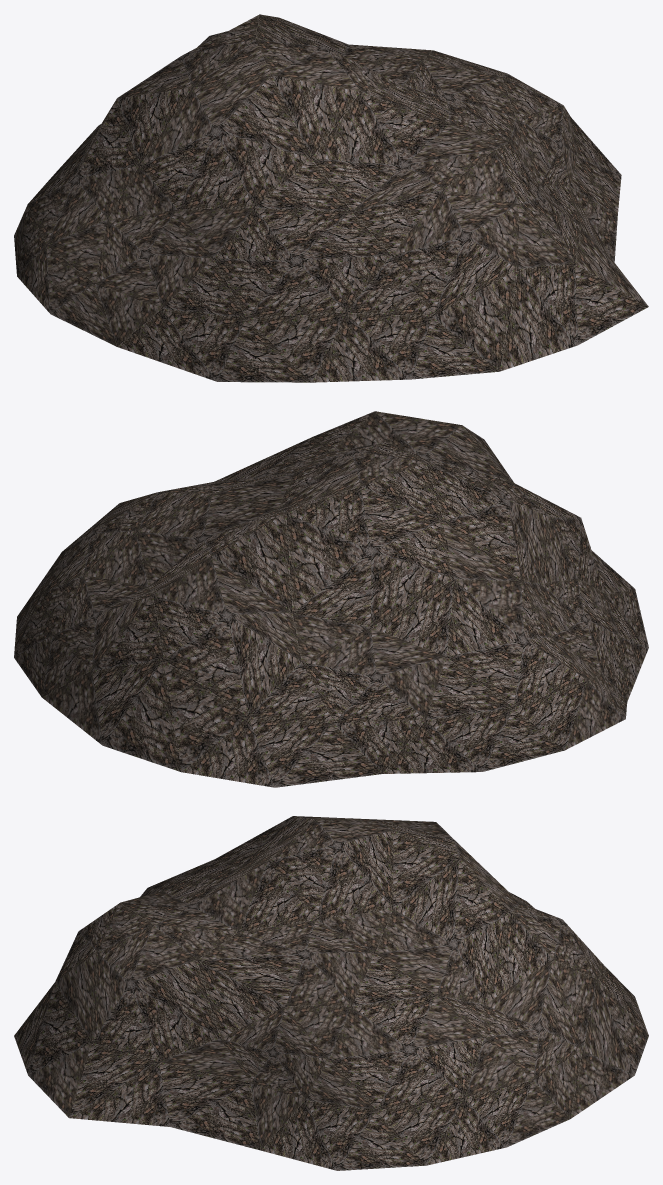
Rendered from island_rockface_1.obj.
3 renders of one model, top to bottom at view 1: azimuth 30°, elevation 25°; view 2: azimuth 150°, elevation 25°; view 3: azimuth 270°, elevation 25°, orthographic. The views are drawn at different scales.
Parts seen in each view (by area): view 1: rockface_1; view 2: rockface_1; view 3: rockface_1.
Boxes of the visible parts, bbox=[...] form: rockface_1: bbox=[14, 14, 648, 382]; rockface_1: bbox=[14, 411, 648, 787]; rockface_1: bbox=[14, 816, 648, 1170].
Size of the model in its own units: 3076 by 1115 by 3136.
Materials: 1 (1 with a texture image).
